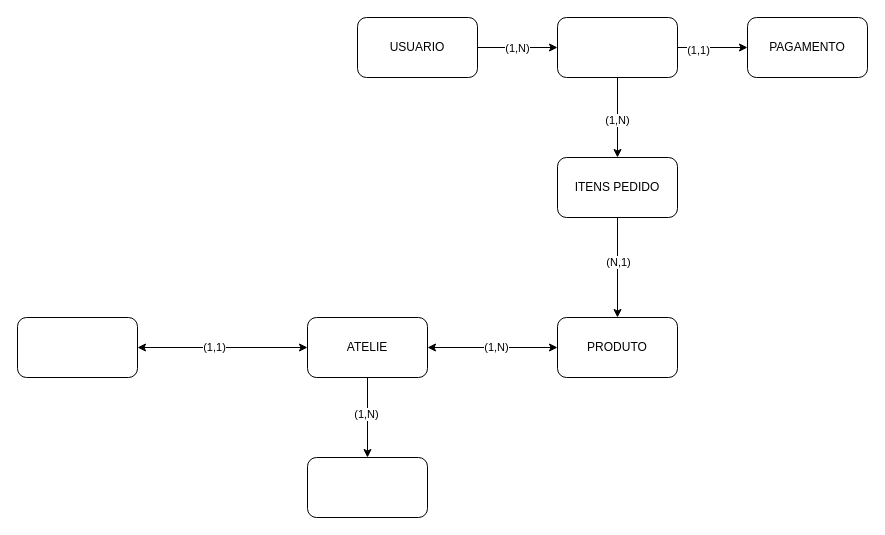
Image size: 885x535. Some labels were removed from this diagram. Here are the shapes that lost their labels. From the top down, the centre of each, then its label:
At (617,47): "PEDIDO".
At (77,347): "CLIENTE".
At (367,487): "ASSINATURA".
